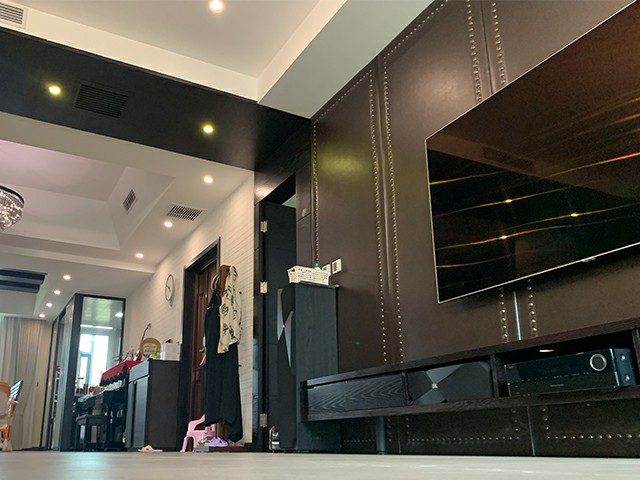cabinet: (300, 316, 640, 456), (124, 358, 182, 452)
curtain: (1, 315, 48, 452)
slippers: (137, 444, 163, 453)
stool: (71, 412, 110, 452), (180, 413, 216, 452)
